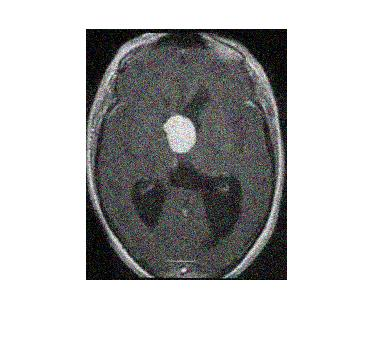Brain_Cancer: (160, 114, 197, 155)
